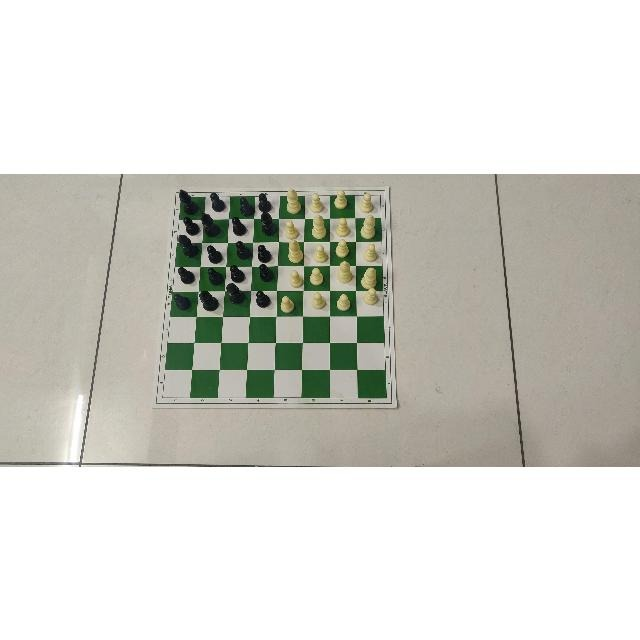black-bishop: (225, 280, 248, 305), (201, 209, 221, 237), (177, 187, 199, 212), (199, 288, 221, 312), (177, 233, 198, 258), (259, 210, 274, 236)
black-pawn: (209, 188, 227, 212), (230, 214, 247, 235), (183, 214, 201, 233), (238, 195, 255, 215), (206, 264, 223, 284), (206, 245, 224, 263), (174, 292, 190, 312), (177, 265, 194, 283), (254, 288, 269, 308), (260, 189, 274, 210), (259, 261, 273, 281), (256, 242, 272, 259), (230, 263, 244, 281), (235, 239, 249, 257)
white-bishop: (336, 259, 353, 287), (362, 210, 378, 239), (311, 212, 329, 237), (282, 238, 299, 262), (287, 185, 301, 212), (362, 263, 376, 288)
white-pawn: (336, 214, 352, 237), (331, 188, 349, 208), (278, 293, 294, 315), (312, 290, 328, 312), (306, 265, 324, 284), (335, 237, 352, 257), (334, 290, 351, 310), (312, 242, 327, 264), (308, 190, 322, 212), (364, 240, 378, 261), (364, 287, 380, 305), (359, 191, 373, 211), (290, 268, 303, 288), (284, 218, 299, 234)
